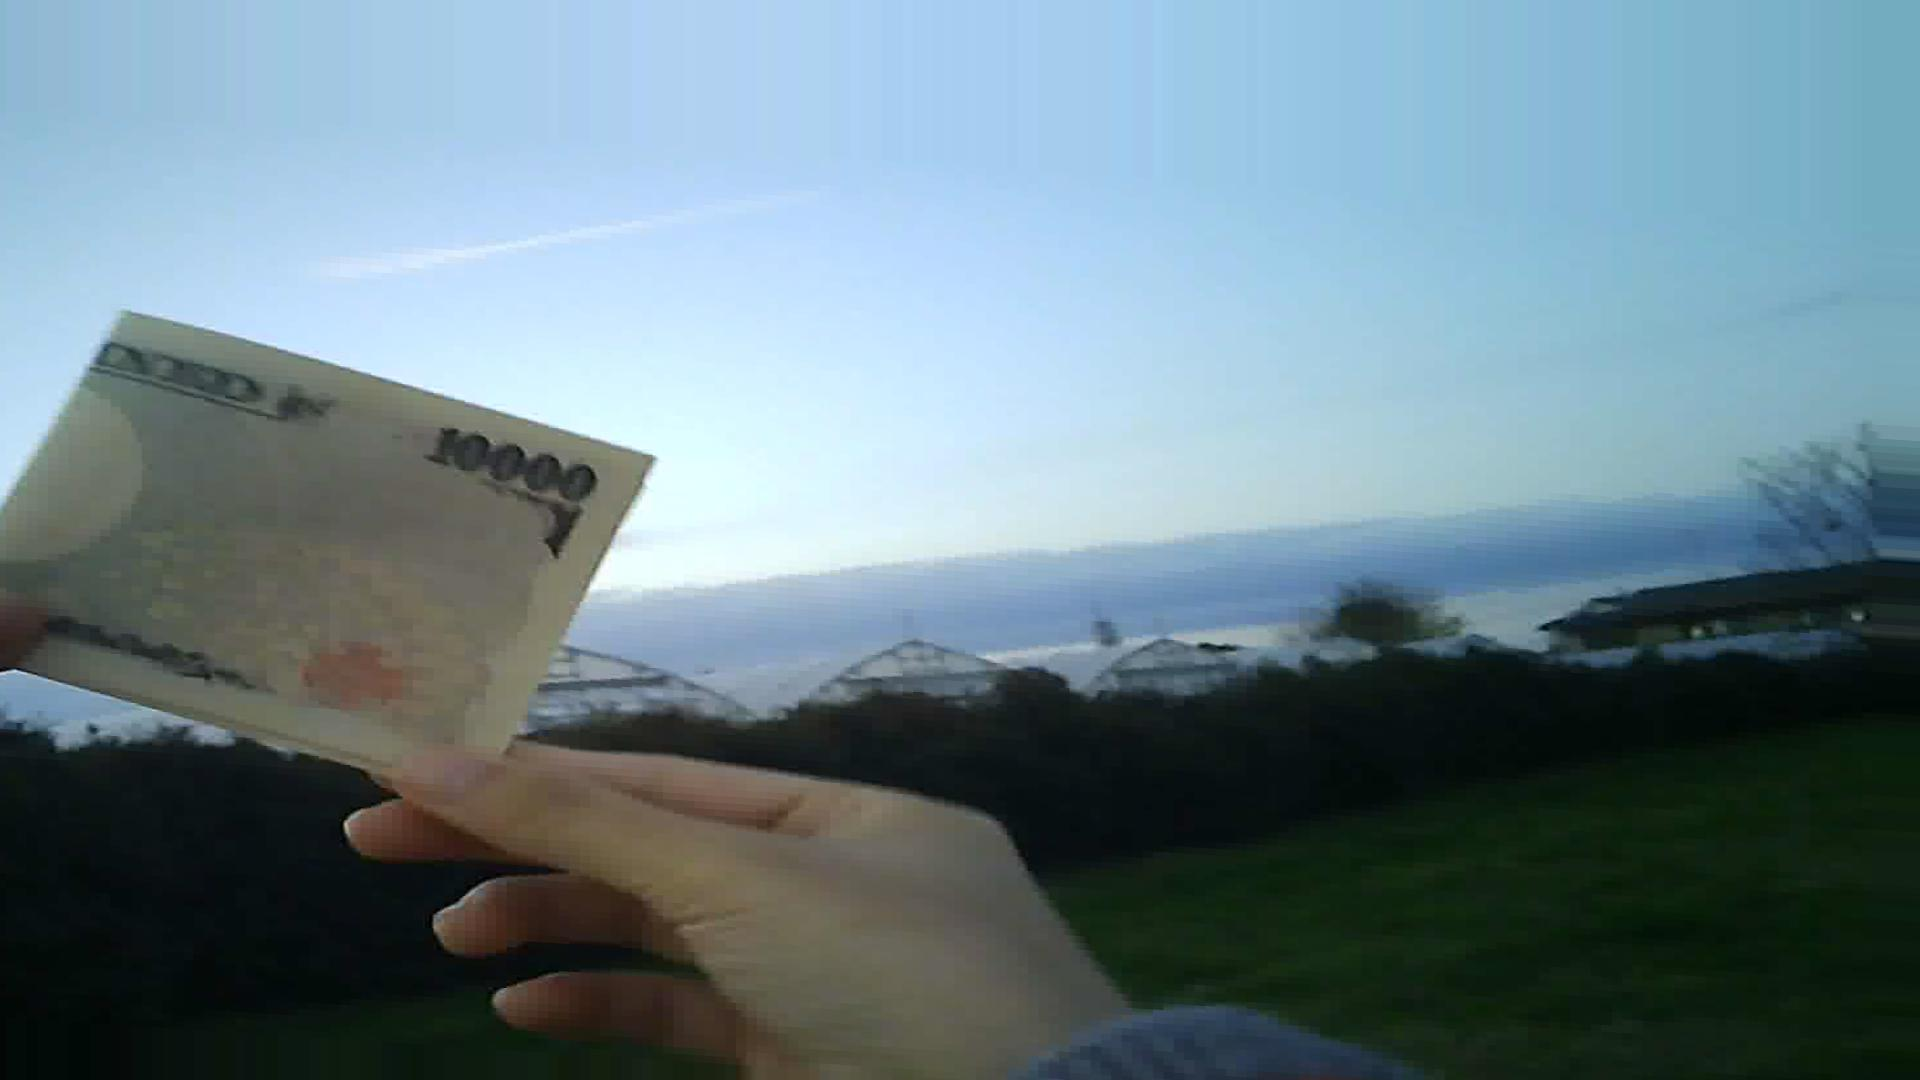10,000 Yen: (17, 287, 644, 798)
